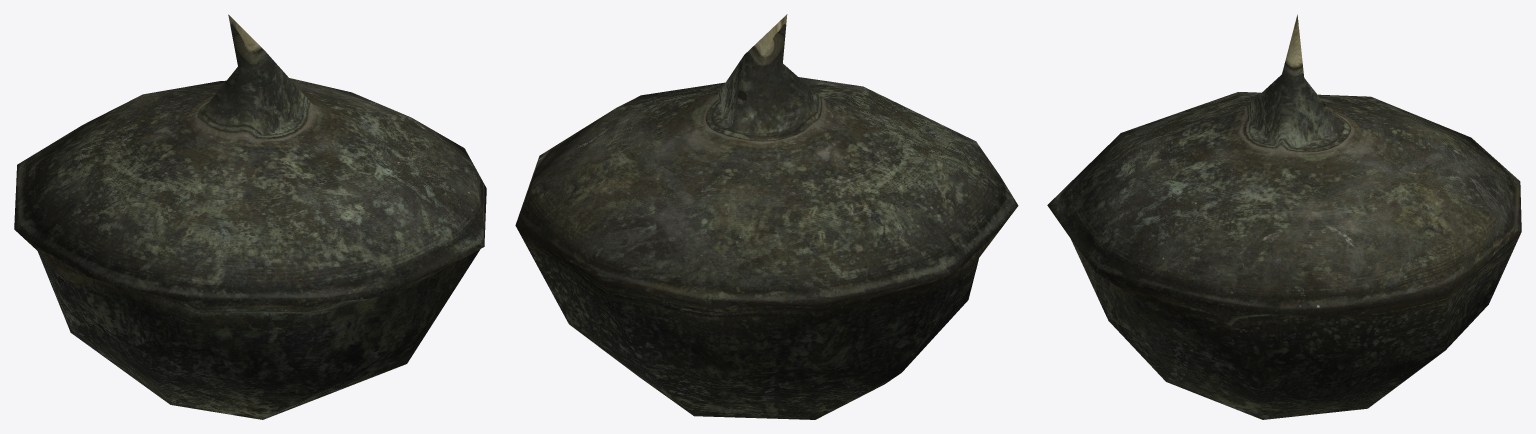
Rendered from Oil_Lamp.glb.
3 renders of one model, left to right at view 1: azimuth 30°, elevation 25°; view 2: azimuth 150°, elevation 25°; view 3: azimuth 270°, elevation 25°, orthographic. The views are drawn at different scales.
Parts seen in each view (by area): view 1: Vintage_Oil_Lamp_LOD6_ubpmajghw; view 2: Vintage_Oil_Lamp_LOD6_ubpmajghw; view 3: Vintage_Oil_Lamp_LOD6_ubpmajghw.
Part boxes in pixels (x1,y1,x2,y2): Vintage_Oil_Lamp_LOD6_ubpmajghw: [14, 14, 486, 419]; Vintage_Oil_Lamp_LOD6_ubpmajghw: [515, 14, 1018, 419]; Vintage_Oil_Lamp_LOD6_ubpmajghw: [1047, 14, 1521, 419].
Size of the model in its own units: 12.5 by 10.13 by 12.49.
Materials: 1 (1 with a texture image).
